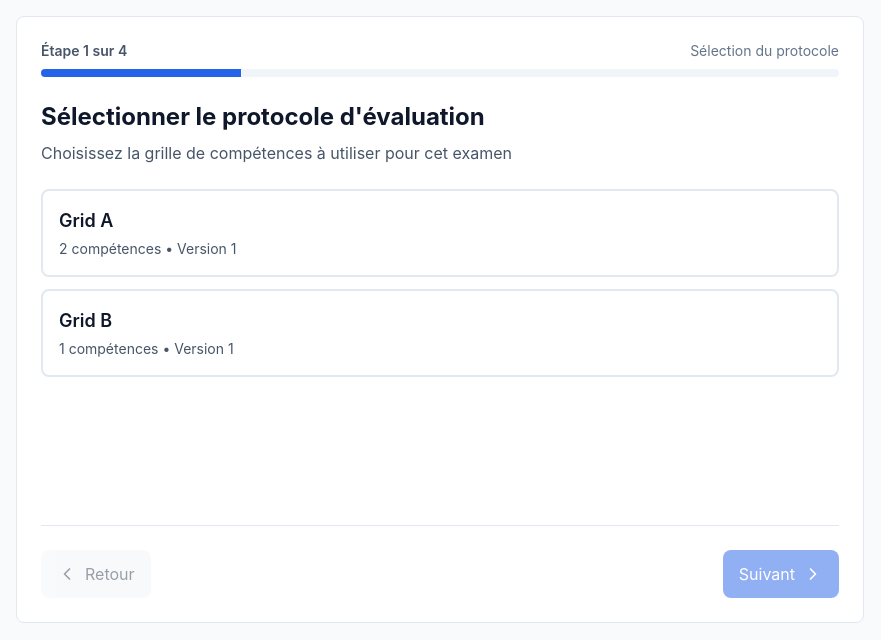
Test case: ExamWizard › Step 2: Exam Metadata › enables Suivant when all fields are filled
The image size is (881, 640).
Click the text "Grid A" at (440, 233), box [41,189,839,277]
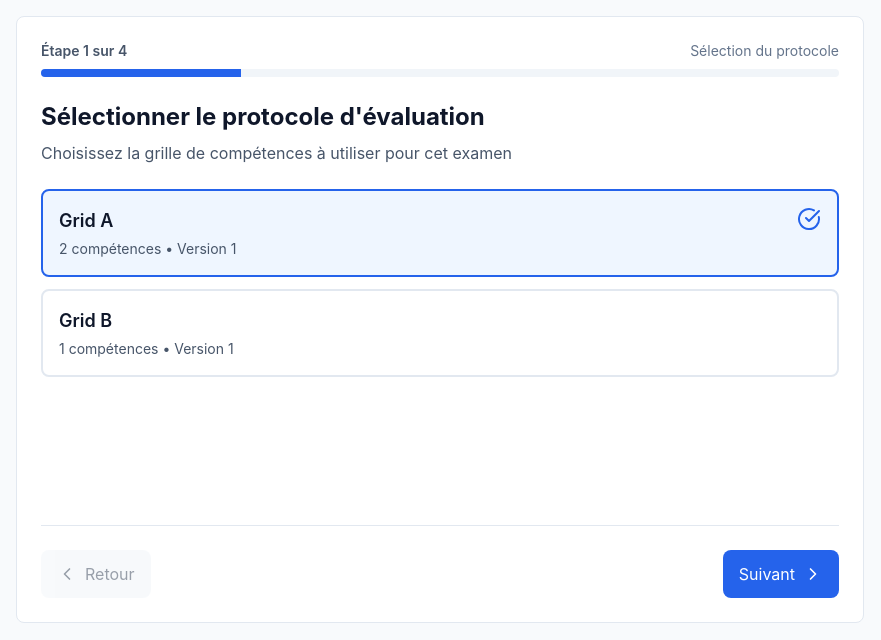
Click the button "Suivant" at (781, 574), box [723,550,839,598]
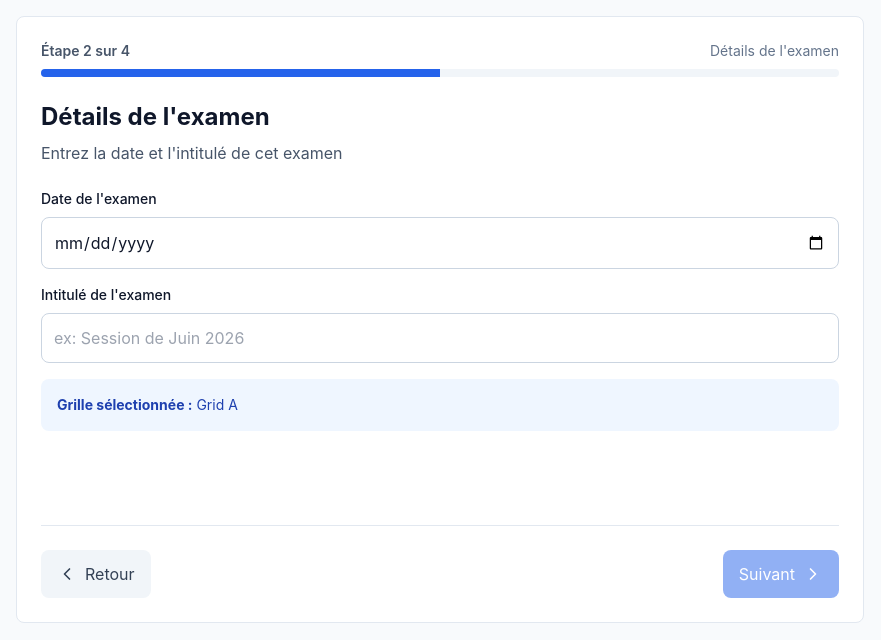
Check: the date field labelled "Date de l'examen" is shown
Type "2024-06-15" into the date field labelled "Date de l'examen" at (440, 243), box [41,217,839,269]
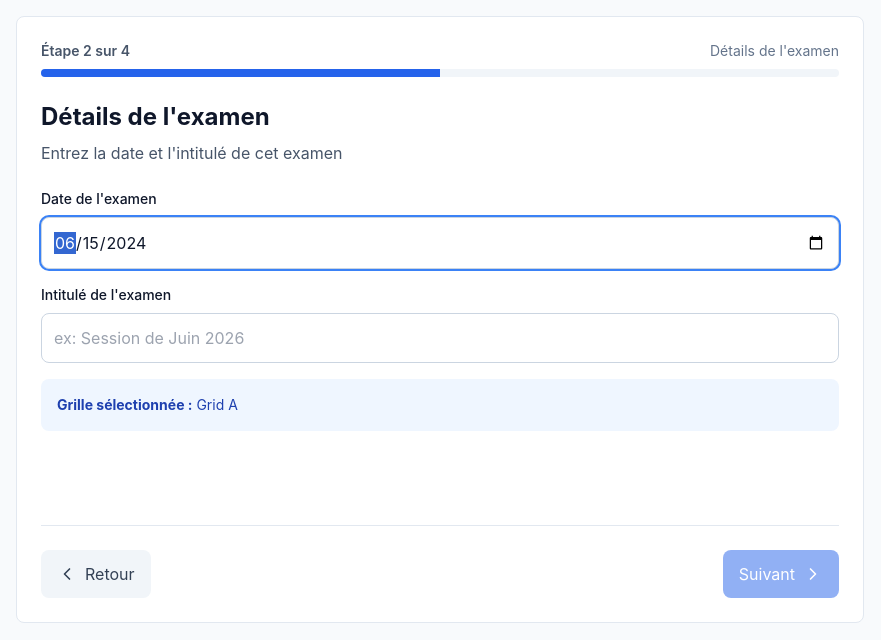
Type "Examen de mi-parcours" into the field with placeholder "ex: Session de Juin 2026" at (440, 338), box [41,313,839,363]
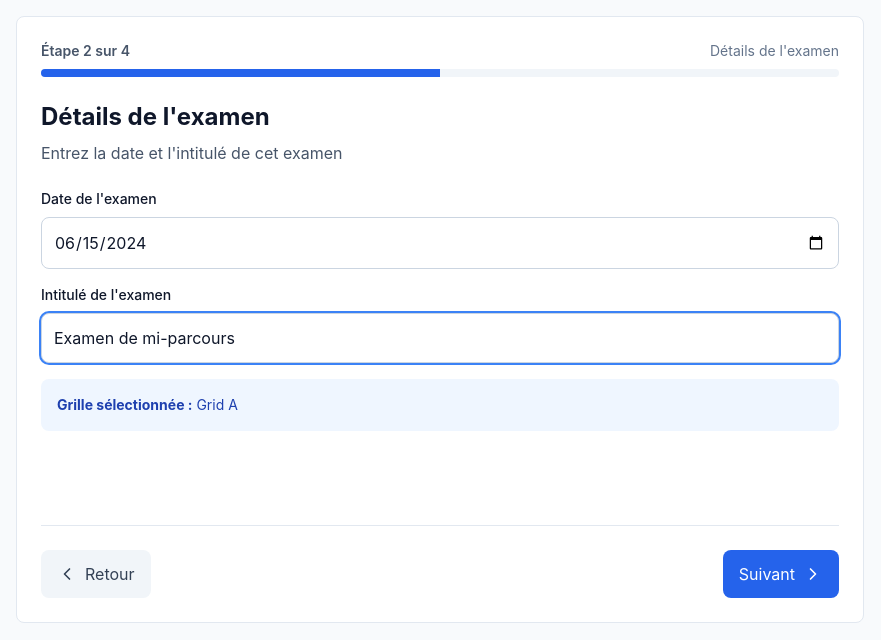
Check: the button "Suivant" is enabled, box [723,550,839,598]
